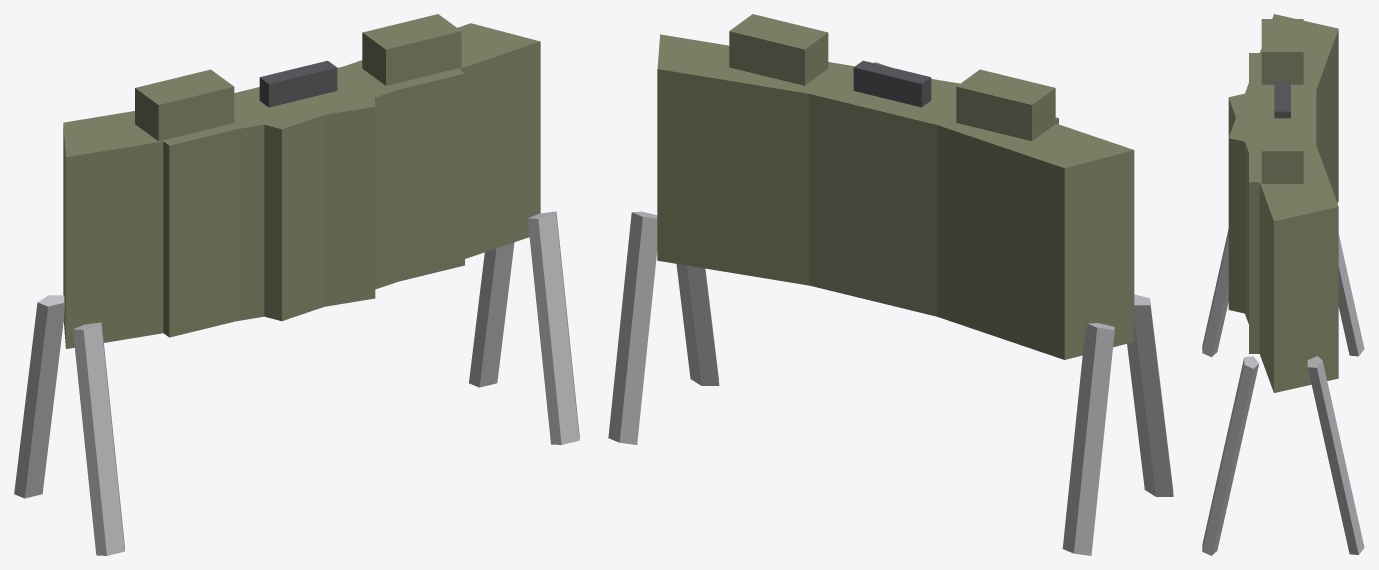
The model's file is claymore.glb.
The picture shows the model from 3 angles, left to right: view 1: azimuth 30°, elevation 25°; view 2: azimuth 150°, elevation 25°; view 3: azimuth 270°, elevation 25°; orthographic projection. The views are drawn at different scales.
Visible parts, largest first — view 1: claymore; view 2: claymore; view 3: claymore.
Part boxes in pixels (left/top/right/bottom): claymore: left=14, top=14, right=579, bottom=555; claymore: left=608, top=14, right=1173, bottom=555; claymore: left=1202, top=14, right=1364, bottom=555.
Size of the model in its own units: 0.2373 by 0.1918 by 0.077.
